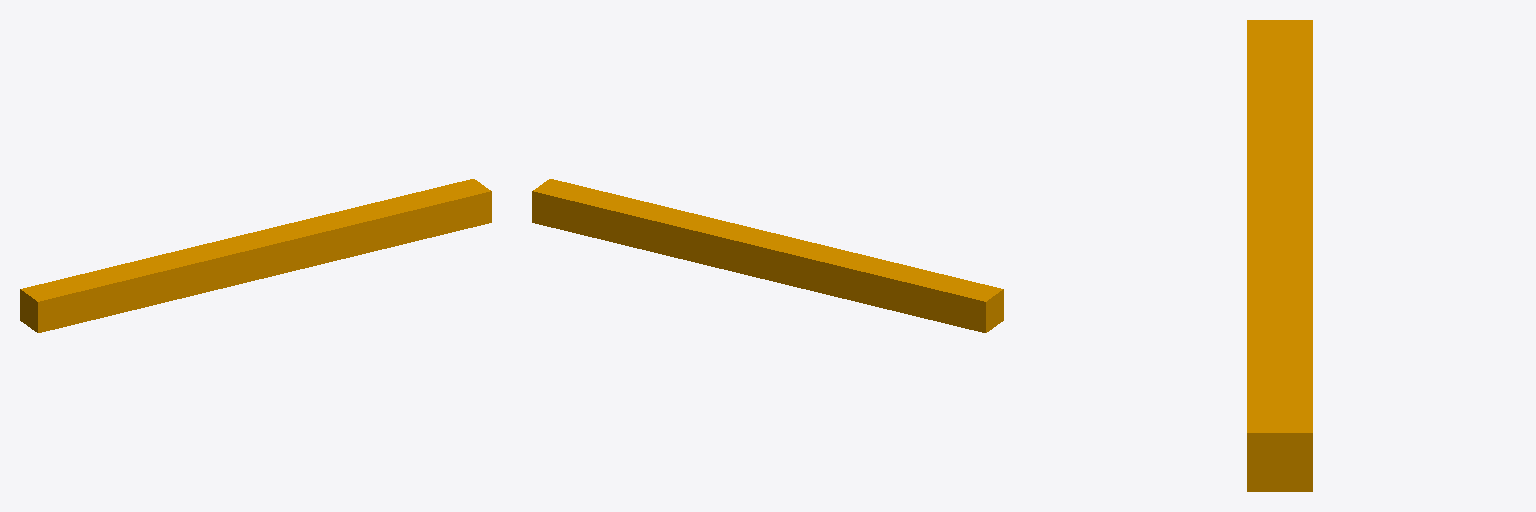
URDF robot description (block3):
<robot name="block3">
  <link name="block3">
    <inertial>
      <origin xyz="0.0 0.0 0.0" />
      <mass value="0.01" />
      <inertia  ixx="0.0007533" ixy="0.0"  ixz="0.0"  iyy="0.0007533"  iyz="0.0"  izz="0.0000066666" />
    </inertial>
    <visual>
      <origin xyz="0.0 0.0 0.0"/>
      <geometry>
        <box size="0.3 0.02 0.02" />
      </geometry>
    </visual>
    <collision>
      <origin xyz="0.0 0.0 0.0"/>
      <geometry>
        <box size="0.3 0.02 0.02" />
      </geometry>
    </collision>
  </link>
  <gazebo reference="block1">
    <material>Gazebo/black</material>
     <mu1>1</mu1>
     <mu2>1</mu2>
     <kp>100000000</kp>
     <kd>100</kd>
     <minDepth>0.001</minDepth>
  </gazebo>
</robot>

--- Render facts (derived) ---
3 views of the same robot in one strip: view 1: azimuth 30°, elevation 25°; view 2: azimuth 150°, elevation 25°; view 3: azimuth 270°, elevation 25° (orthographic).
Robot: block3 — 1 links, 0 joints (none); root link block3; default pose: all joints at 0.
Visible links, largest first — view 1: block3; view 2: block3; view 3: block3.
Boxes of the visible links, <box> form: block3: <box>20,179,491,332</box>; block3: <box>532,179,1003,332</box>; block3: <box>1247,20,1312,491</box>.
Size in the robot's own frame: 0.3 by 0.02 by 0.02 metres.
Geometry: primitives only (box / cylinder / sphere), no mesh files.